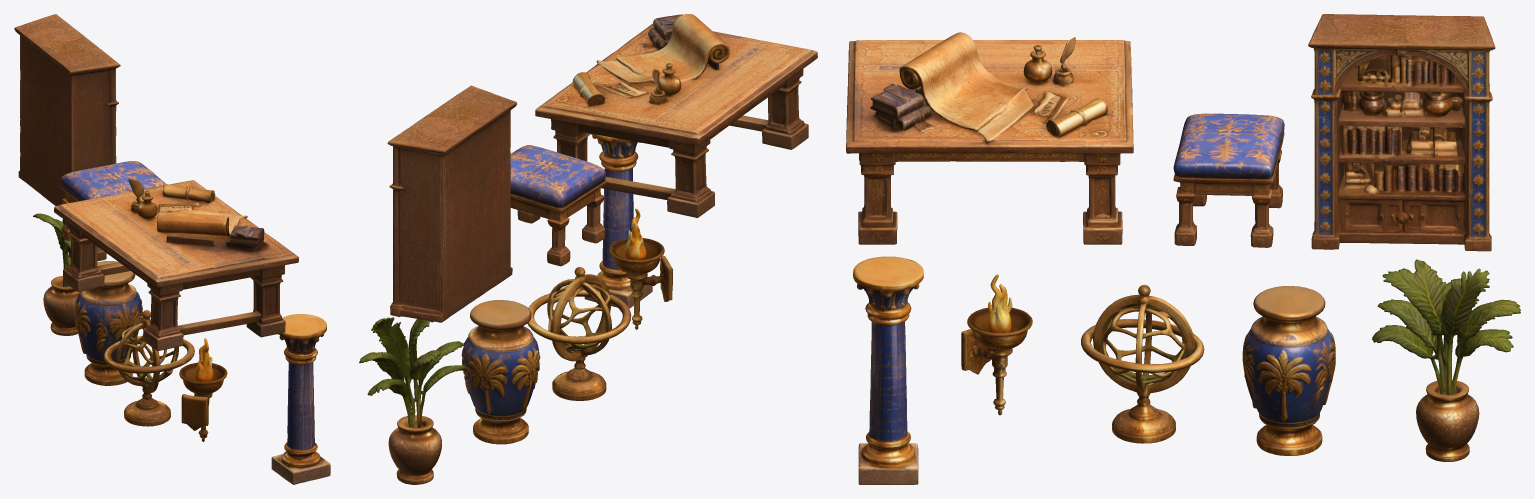
File: اثاث غرفة المكتبة.glb
3 renders of one model, left to right at view 1: azimuth 30°, elevation 25°; view 2: azimuth 150°, elevation 25°; view 3: azimuth 270°, elevation 25°, orthographic. The views are drawn at different scales.
Visible parts, largest first — view 1: world; view 2: world; view 3: world.
Part boxes in pixels (x1,y1,x2,y2): world: [14, 14, 330, 484]; world: [359, 14, 817, 484]; world: [846, 14, 1520, 484].
Bounding box in the file's own units: 0.4216 × 0.6735 × 0.9998.
Materials: 1 (1 with a texture image).
